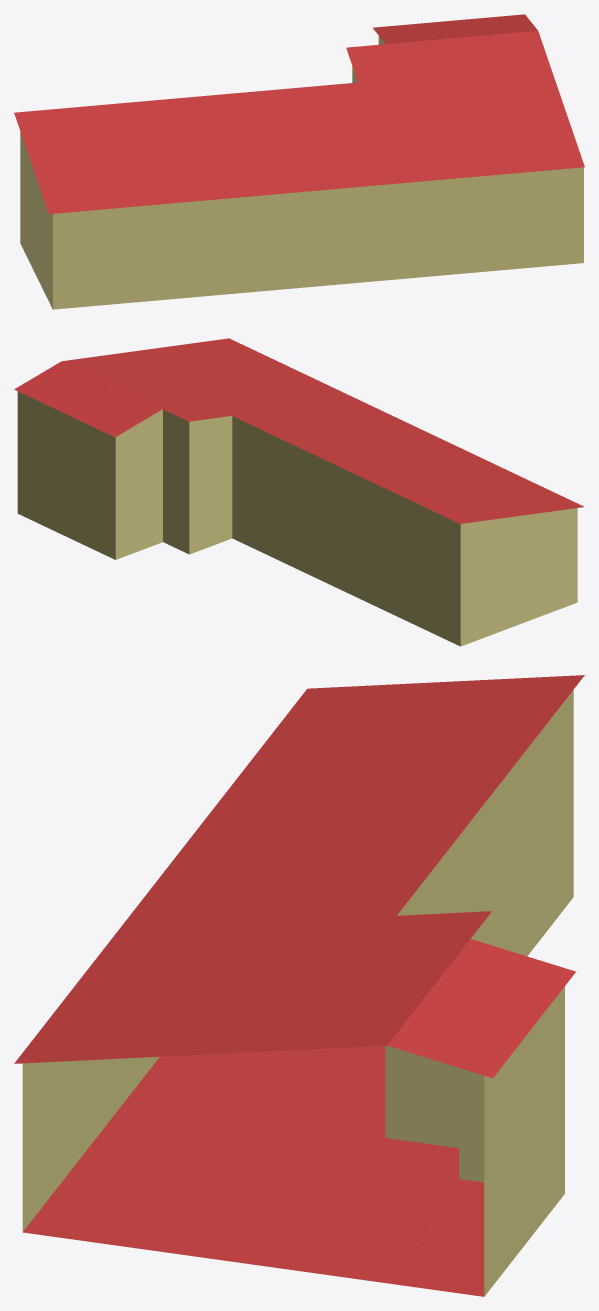
3 renders of one model, top to bottom at view 1: azimuth 30°, elevation 25°; view 2: azimuth 150°, elevation 25°; view 3: azimuth 270°, elevation 25°, orthographic. The views are drawn at different scales.
Size of the model in its own units: 29.05 by 15.86 by 7.29.
